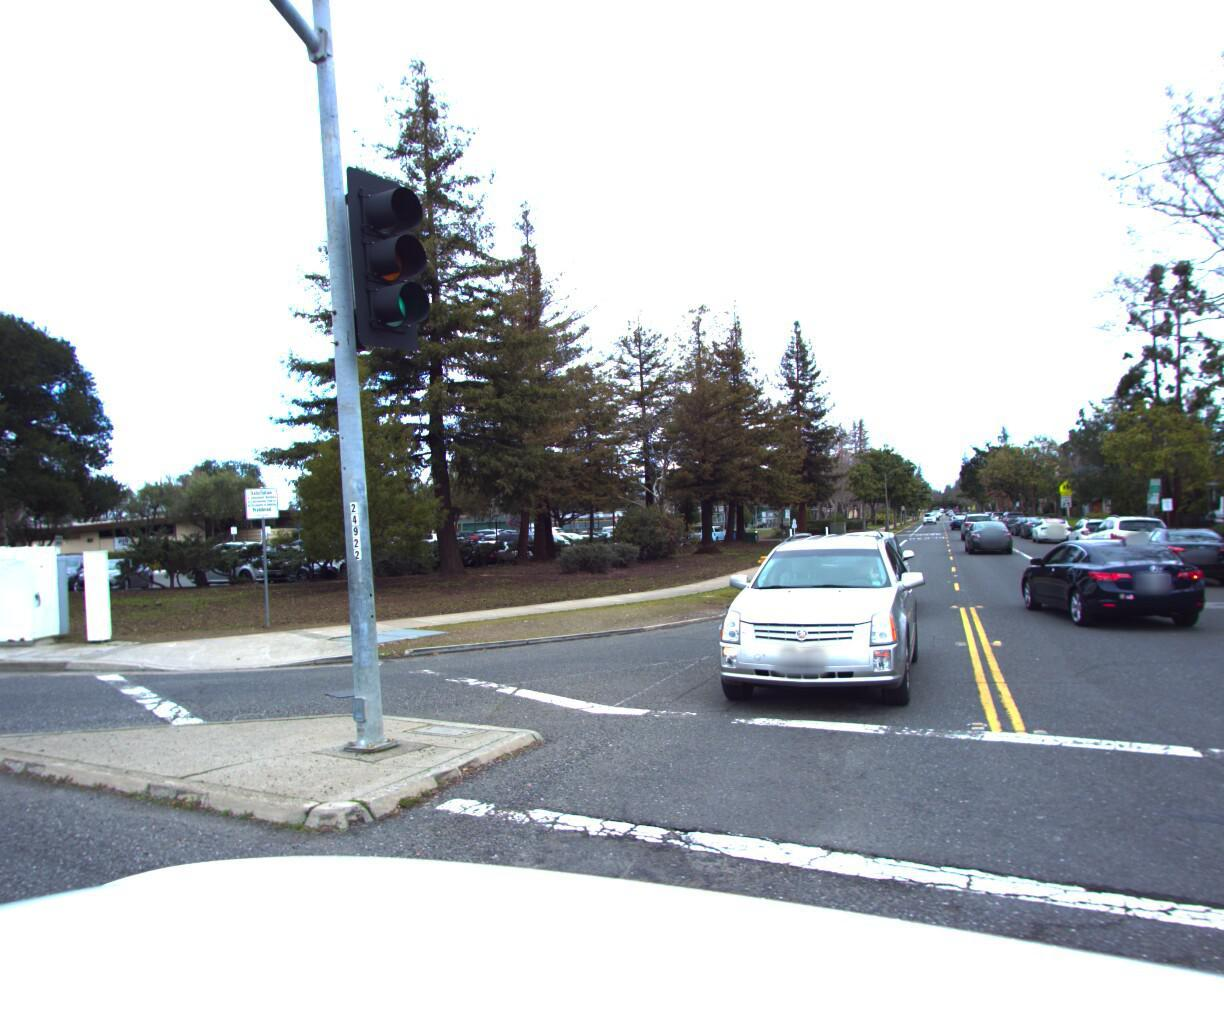car: (693, 521, 938, 729), (1014, 519, 1215, 631), (808, 520, 915, 616), (1116, 516, 1224, 583), (1077, 504, 1192, 565), (1060, 509, 1138, 552), (960, 505, 1016, 544), (1029, 511, 1078, 539), (997, 504, 1026, 524)
